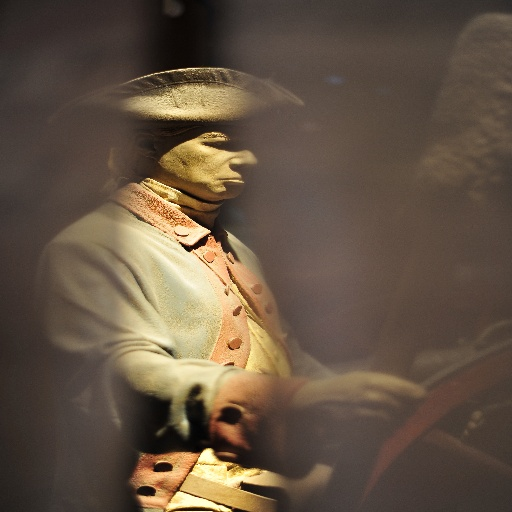hand: (289, 366, 443, 437)
